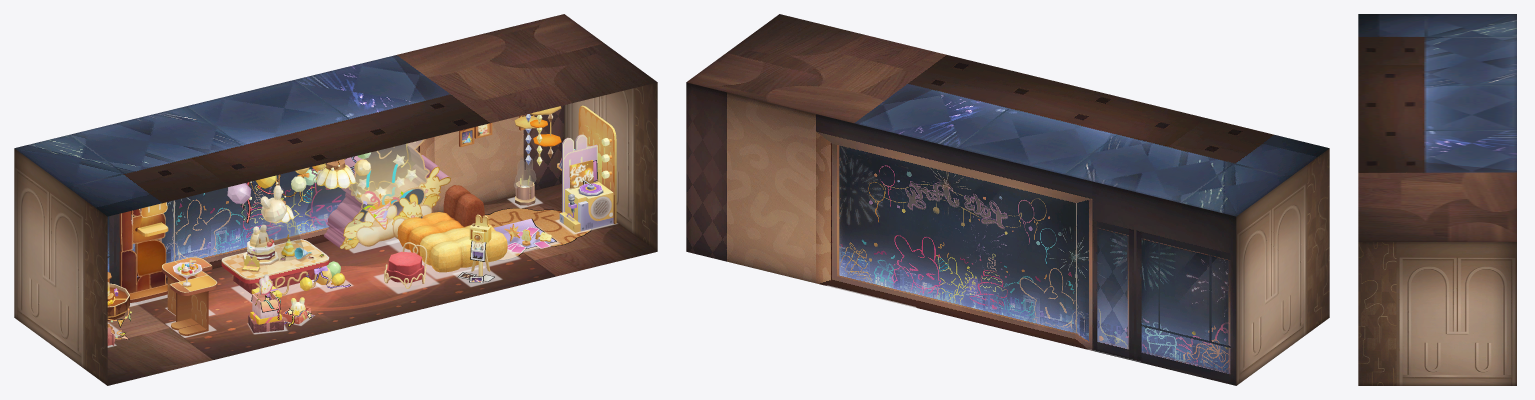
Rendered from RhodesRabbit.glb.
3 renders of one model, left to right at view 1: azimuth 30°, elevation 25°; view 2: azimuth 150°, elevation 25°; view 3: azimuth 270°, elevation 25°, orthographic. The views are drawn at different scales.
Visible parts, largest first — view 1: ROOM_room, ROOM_floor, furni_RhodesRabbit_lampblock_01, furni_RhodesRabbit_jukebox_01, furni_RhodesRabbit_sofa_01, furni_RhodesRabbit_diningTable_01, furni_RhodesRabbit_walllamp_01, furni_RhodesRabbit_ceilinglamp_01, furni_RhodesRabbit_bar_01, furni_RhodesRabbit_carpet_01, furni_RhodesRabbit_lampblock_03, furni_RhodesRabbit_ceilinglamp_light_01 (+12 smaller); view 2: ROOM_room, ROOM_LDoor; view 3: ROOM_room, ROOM_RDoor.
Boxes of the visible parts, x1,y1,x2,y2 form: ROOM_room: (14, 14, 657, 385); ROOM_floor: (107, 184, 657, 385); furni_RhodesRabbit_lampblock_01: (324, 139, 450, 249); furni_RhodesRabbit_jukebox_01: (557, 105, 616, 232); furni_RhodesRabbit_sofa_01: (397, 185, 507, 272); furni_RhodesRabbit_diningTable_01: (221, 224, 345, 295); furni_RhodesRabbit_walllamp_01: (119, 202, 168, 302); furni_RhodesRabbit_ceilinglamp_01: (227, 152, 371, 223); furni_RhodesRabbit_bar_01: (162, 257, 217, 335); furni_RhodesRabbit_carpet_01: (485, 208, 591, 259); furni_RhodesRabbit_lampblock_03: (350, 148, 427, 202); furni_RhodesRabbit_ceilinglamp_light_01: (255, 183, 365, 247); ROOM_room: (686, 14, 1329, 385); ROOM_LDoor: (1297, 251, 1315, 341); ROOM_room: (1358, 14, 1516, 385); ROOM_RDoor: (1381, 320, 1414, 385).
Bounding box in the file's own units: 7.48 × 2.2 × 2.25.
7 materials, 7 textured.
